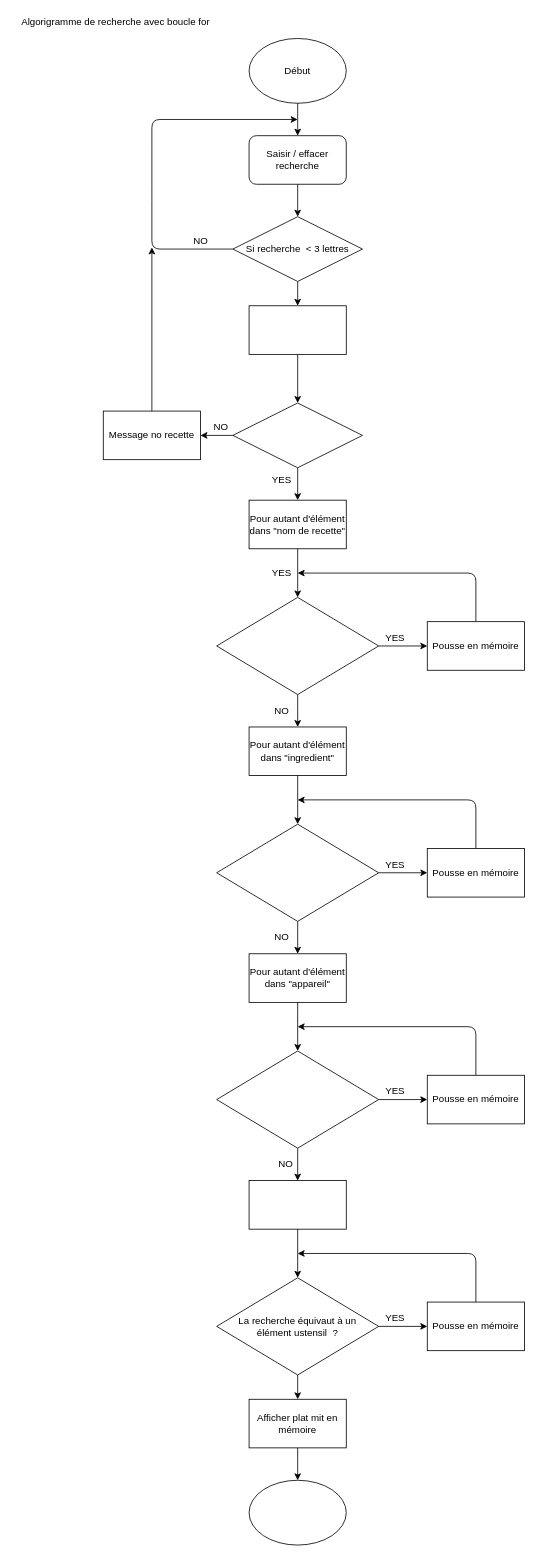
Some shapes in this 539 by 1559 pixel diagram are drawn without their labels. The centre of each missing label's shape, as x and y in pixels:
FIN: the point at 297,1512
La recherche équivaut à un élément appareil ?: the point at 297,1099
La recherche équivaut à un élément ingrédient ?: the point at 297,872
La recherche équivaut à un élément nom de recette ?: the point at 297,646
Pour autant d'élément dans "ustensil ": the point at 297,1204
Pour tous les élément de la BDD: the point at 297,329
Si élément dans BDD: the point at 297,435
